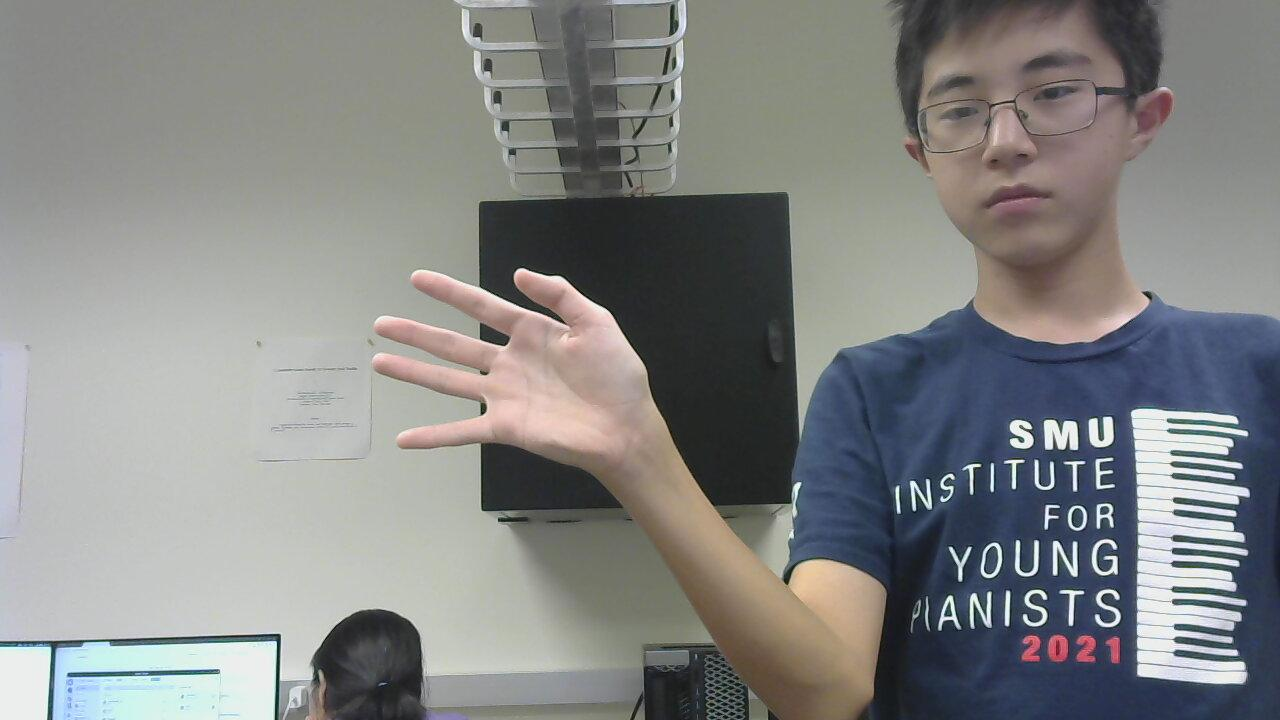hands: (386, 257, 660, 486)
